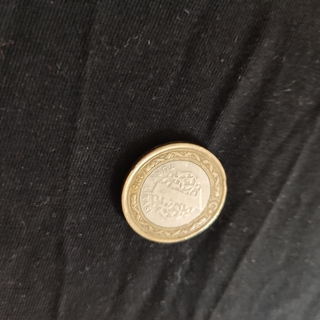1TL: (118, 141, 229, 245)
